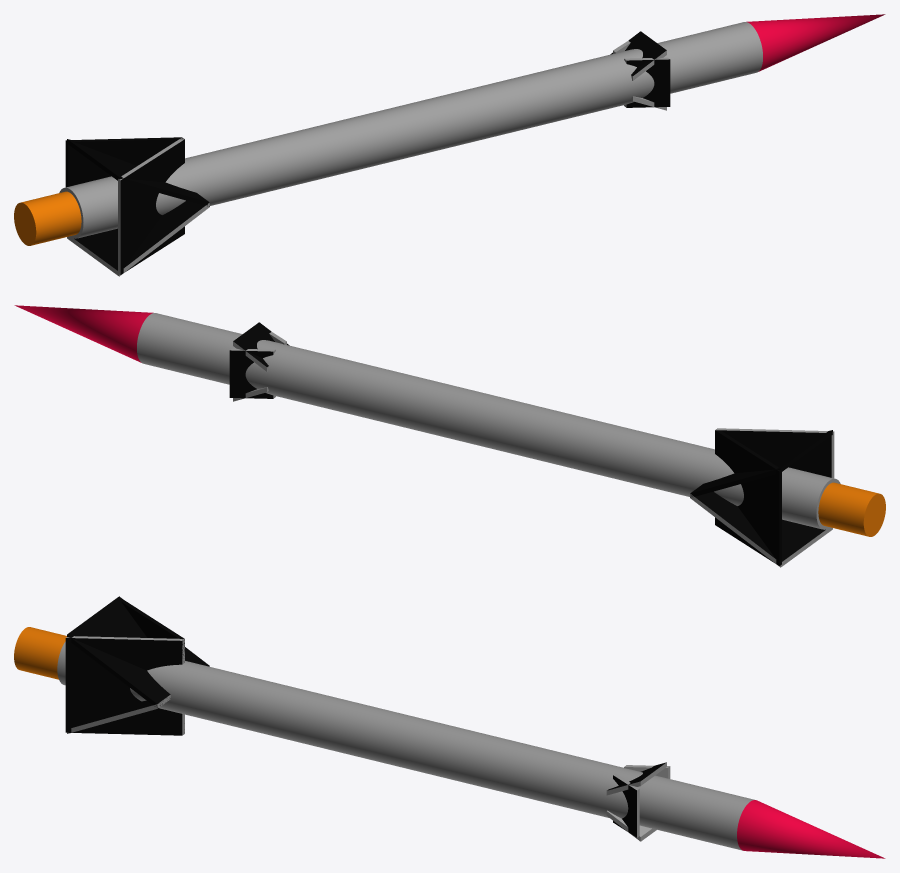
The model's file is rocket.glb.
3 views of the same model, one above another, from view 1: azimuth 30°, elevation 25°; view 2: azimuth 150°, elevation 25°; view 3: azimuth 330°, elevation 25° (orthographic).
Parts seen in each view (by area): view 1: Missile_Main_Body; view 2: Missile_Main_Body; view 3: Missile_Main_Body.
Boxes of the visible parts, x1,y1,x2,y2 form: Missile_Main_Body: [14, 14, 885, 276]; Missile_Main_Body: [14, 305, 885, 567]; Missile_Main_Body: [14, 596, 885, 858].
Bounding box in the file's own units: 3.8 × 0.42 × 0.42.
